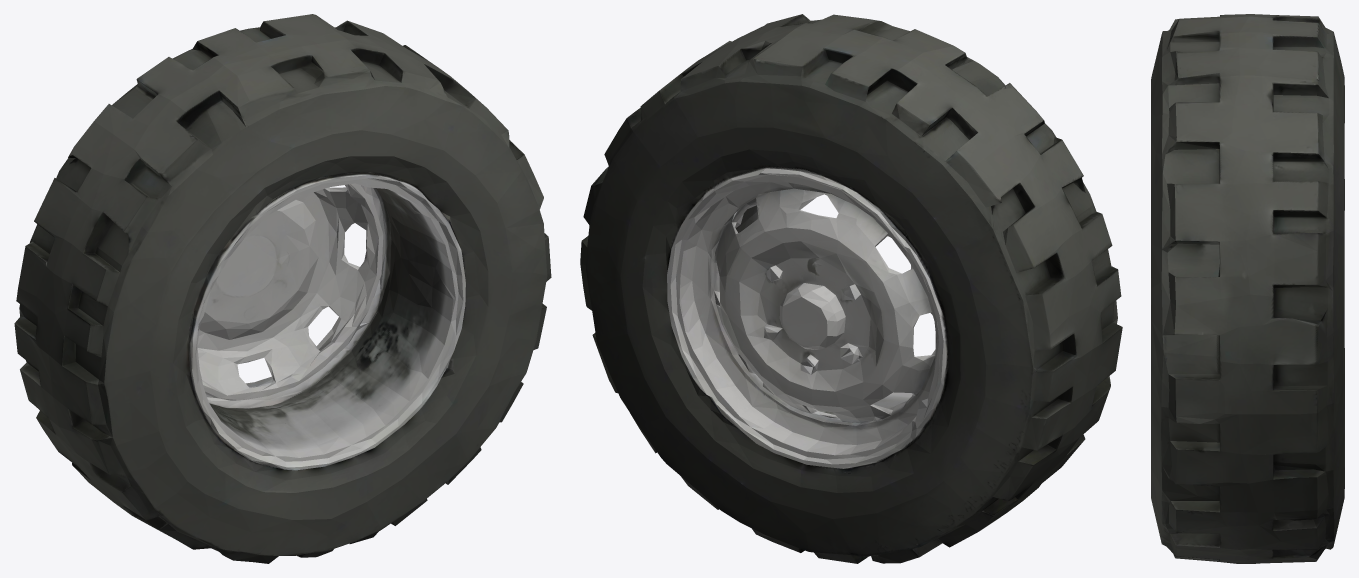
File: llanta modelo 3D.glb
3 views of the same model, side by side, from view 1: azimuth 30°, elevation 25°; view 2: azimuth 150°, elevation 25°; view 3: azimuth 270°, elevation 25° (orthographic).
Parts seen in each view (by area): view 1: tripo_node_55e722af-e7e9-4daa-ac32-5f317950ba90; view 2: tripo_node_55e722af-e7e9-4daa-ac32-5f317950ba90; view 3: tripo_node_55e722af-e7e9-4daa-ac32-5f317950ba90.
Part boxes in pixels (x1=…): tripo_node_55e722af-e7e9-4daa-ac32-5f317950ba90: x1=14, y1=14, x2=551, y2=563; tripo_node_55e722af-e7e9-4daa-ac32-5f317950ba90: x1=580, y1=14, x2=1122, y2=563; tripo_node_55e722af-e7e9-4daa-ac32-5f317950ba90: x1=1151, y1=14, x2=1344, y2=563.
Size of the model in its own units: 1 by 0.9886 by 0.3492.
Materials: 1 (1 with a texture image).
